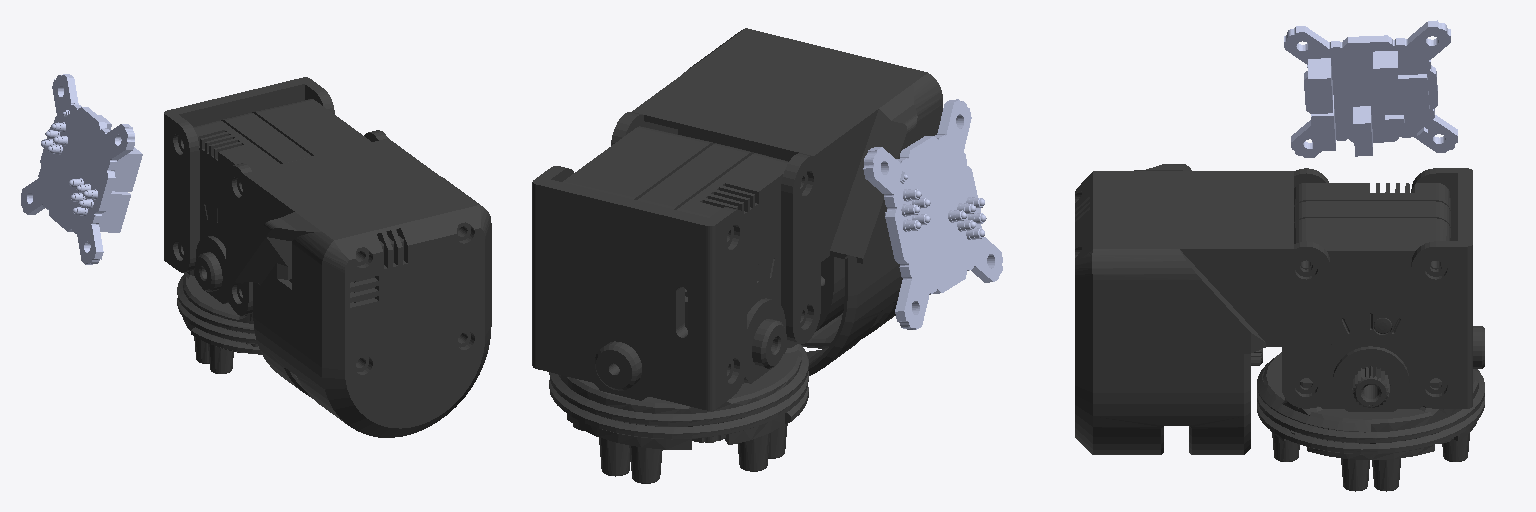
The robot description file, URDF, robot "screw_cm_module":
<?xml version='1.0' encoding='UTF-8'?>
<robot name="screw_cm_module">
  <link name="base_link">
    <inertial>
      <origin xyz="-0.000234526751972131 -0.00028602879195132 0.00492715673473502" rpy="0.0 -0.0 0.0"/>
      <mass value="0.00883872367866773"/>
      <inertia ixx="8.44969262482198e-07" ixy="-2.38438590170593e-09" ixz="4.75238560676722e-09" iyy="8.63389925030388e-07" iyz="5.42634773688696e-09" izz="1.43408773061232e-06"/>
    </inertial>
    <visual>
      <geometry>
        <mesh filename="package://screw_cm_module/meshes/base_link.dae"/>
      </geometry>
      <material name="__unnamed_material_1"/>
      <origin xyz="0.0 0.0 0.0" rpy="0.0 -0.0 0.0"/>
    </visual>
    <collision>
      <geometry>
        <mesh filename="package://screw_cm_module/meshes/base_link.dae"/>
      </geometry>
      <origin xyz="0.0 0.0 0.0" rpy="0.0 -0.0 0.0"/>
    </collision>
  </link>
  <link name="link1">
    <inertial>
      <origin xyz="0.0122754950678387 0.00451490759273611 0.0192976588266299" rpy="0.0 -0.0 0.0"/>
      <mass value="0.0525185279217828"/>
      <inertia ixx="1.20898118628892e-05" ixy="6.79207945311754e-07" ixz="7.33692665286359e-07" iyy="1.05211895809663e-05" iyz="2.1948178305605e-07" izz="1.33437679174632e-05"/>
    </inertial>
    <visual>
      <geometry>
        <mesh filename="package://screw_cm_module/meshes/link1.dae"/>
      </geometry>
      <material name="__unnamed_material_2"/>
      <origin xyz="0.0 0.0 0.0" rpy="0.0 -0.0 0.0"/>
    </visual>
    <collision>
      <geometry>
        <mesh filename="package://screw_cm_module/meshes/link1.dae"/>
      </geometry>
      <origin xyz="0.0 0.0 0.0" rpy="0.0 -0.0 0.0"/>
    </collision>
  </link>
  <link name="dummy_link">
    <inertial>
      <origin xyz="-0.0014613152281131 0.000201870812535348 -0.00283550672359347" rpy="0.0 -0.0 0.0"/>
      <mass value="0.00131294858172581"/>
      <inertia ixx="5.41755485203049e-08" ixy="1.27650587238183e-09" ixz="-4.82976540098191e-09" iyy="5.88144862744986e-08" iyz="3.56234284775796e-10" izz="1.05520720424416e-07"/>
    </inertial>
    <visual>
      <geometry>
        <mesh filename="package://screw_cm_module/meshes/dummy_link.dae"/>
      </geometry>
      <material name="__unnamed_material_3"/>
      <origin xyz="0.0 0.0 0.0" rpy="0.0 -0.0 0.0"/>
    </visual>
    <collision>
      <geometry>
        <mesh filename="package://screw_cm_module/meshes/dummy_link.dae"/>
      </geometry>
      <origin xyz="0.0 0.0 0.0" rpy="0.0 -0.0 0.0"/>
    </collision>
  </link>
  <joint name="joint1" type="revolute">
    <limit effort="0.0" velocity="0.0" lower="-2.356" upper="2.356"/>
    <parent link="base_link"/>
    <child link="link1"/>
    <axis xyz=" 0.  0. -1."/>
    <origin xyz="0.0 0.0 0.012" rpy="0.0 -0.0 3.1415853071795867"/>
  </joint>
  <joint name="dummy_joint" type="fixed">
    <limit effort="0.0" velocity="0.0"/>
    <parent link="link1"/>
    <child link="dummy_link"/>
    <axis xyz="0. 0. 0."/>
    <origin xyz="0.0436109777441064 0.0 0.0270612891532417" rpy="-1.2930552091209 -0.0509380987630674 -1.5853120014244801"/>
  </joint>
  <material name="__unnamed_material_1">
    <color rgba="0.29803922 0.29803922 0.29803922 1.        "/>
  </material>
  <material name="__unnamed_material_2">
    <color rgba="0.29803922 0.29803922 0.29803922 1.        "/>
  </material>
  <material name="__unnamed_material_3">
    <color rgba="0.79215686 0.81960784 0.93333333 1.        "/>
  </material>
</robot>

--- Facts derived from the render (not from the file) ---
3 views of the same robot in one strip: view 1: azimuth 30°, elevation 25°; view 2: azimuth 150°, elevation 25°; view 3: azimuth 270°, elevation 25° (orthographic).
Model screw_cm_module with 3 links and 2 joints (1 revolute, 1 fixed), rooted at base_link, posed every joint at zero.
Links seen in each view (by area): view 1: link1, dummy_link, base_link; view 2: link1, dummy_link, base_link; view 3: link1, dummy_link, base_link.
Link boxes in pixels (x1,y1,x2,y2): link1: [164, 77, 491, 437]; dummy_link: [21, 74, 142, 264]; base_link: [177, 270, 261, 373]; link1: [532, 28, 942, 410]; dummy_link: [863, 99, 1002, 329]; base_link: [549, 341, 808, 483]; link1: [1075, 164, 1484, 454]; dummy_link: [1284, 20, 1457, 157]; base_link: [1257, 352, 1484, 491].
Bounding box of the posed robot: 0.0651 × 0.0665 × 0.0588 m (x, y, z).
3 mesh visuals loaded from 3 distinct referenced files (3 Collada DAE).